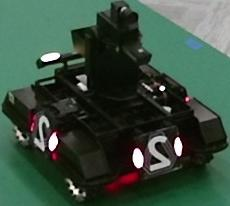armor_2: (132, 136, 185, 169)
front_2: (143, 131, 176, 174)
right_2: (32, 111, 51, 152)
